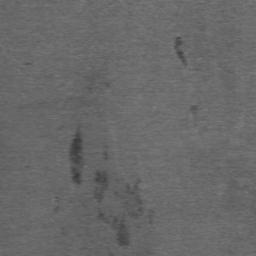Iron scale compression: (98, 210, 129, 246), (69, 121, 84, 185), (173, 36, 188, 68), (95, 171, 108, 203)
